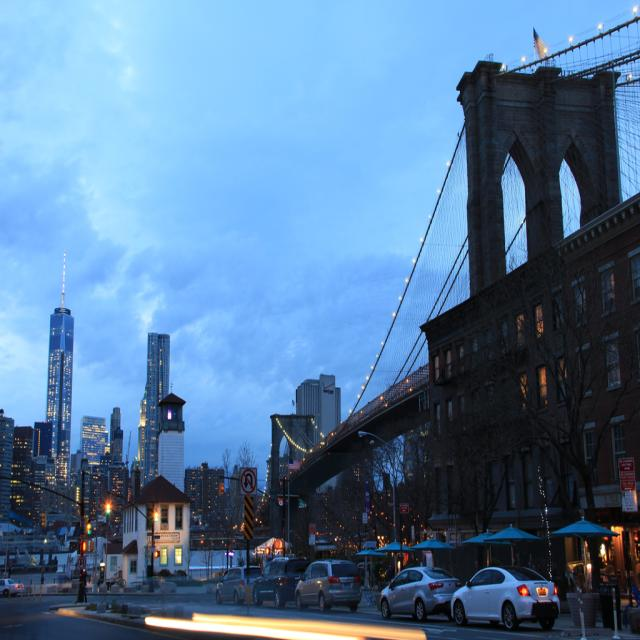car: (450, 572, 563, 637), (376, 560, 461, 623), (294, 554, 360, 612)
